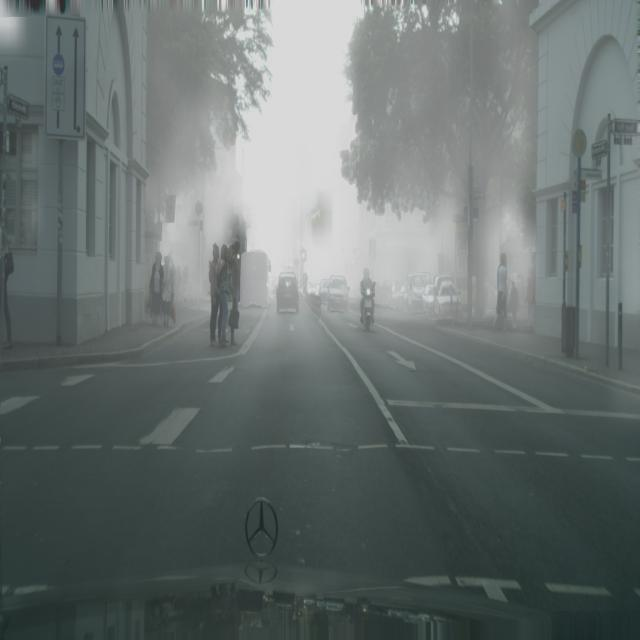bicycle: (239, 250, 269, 308)
bus: (0, 212, 14, 350), (217, 249, 232, 348), (492, 252, 508, 333), (208, 246, 220, 345), (149, 252, 163, 327), (161, 258, 174, 326), (527, 266, 535, 332), (232, 251, 241, 306), (508, 279, 518, 328)
car: (239, 249, 270, 308)
motorcycle: (360, 272, 374, 331)
person: (433, 278, 462, 324), (408, 272, 430, 314), (276, 273, 299, 313), (327, 276, 349, 312), (306, 281, 322, 318), (389, 281, 408, 311), (421, 282, 435, 317), (320, 278, 331, 299)
